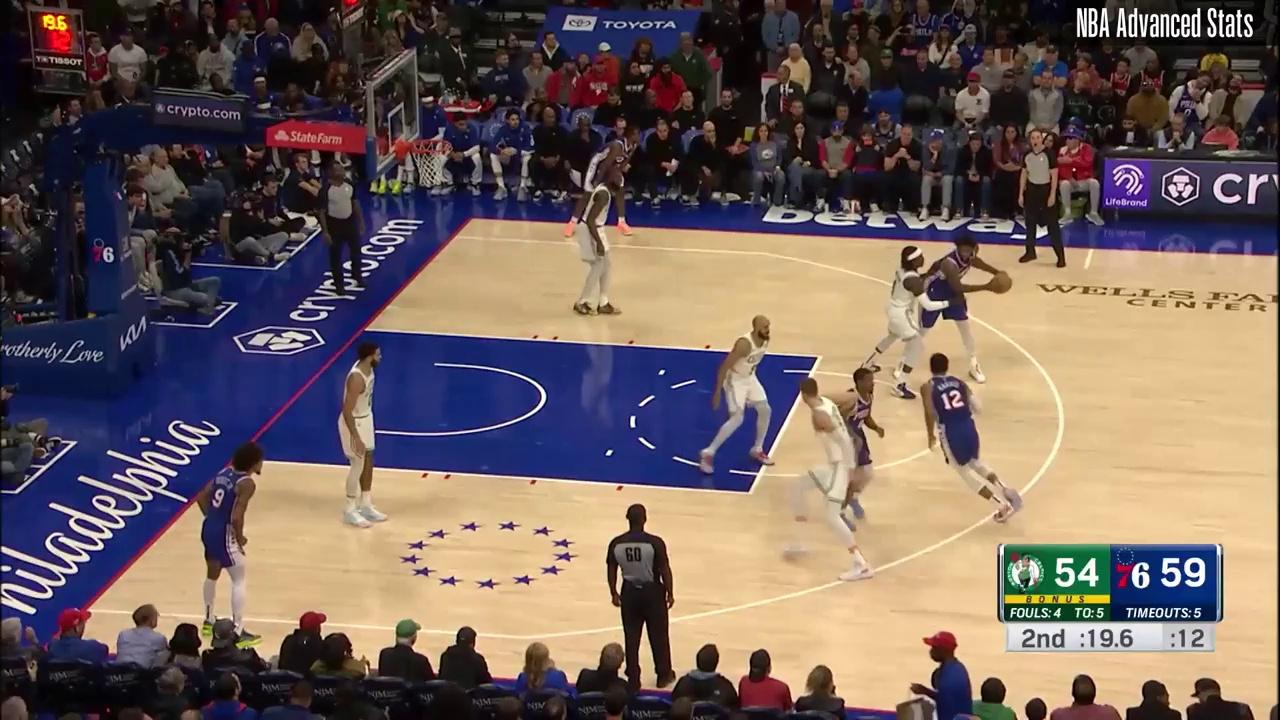3_dx: (448, 232, 459, 243)
3_sx: (78, 603, 93, 616)
b_dx: (466, 213, 477, 223)
free_adx: (814, 352, 826, 364)
free_asx: (745, 488, 756, 499)
free_bdx: (357, 324, 368, 335)
mid_dx: (1081, 264, 1091, 274)
referee: (604, 504, 680, 693), (1015, 130, 1067, 269), (315, 162, 366, 291)
team: (918, 354, 1024, 522), (190, 444, 270, 653), (911, 237, 998, 382), (567, 122, 640, 237), (831, 371, 884, 522)
team1: (793, 375, 869, 581), (859, 243, 947, 397), (699, 312, 778, 472), (337, 340, 398, 530), (571, 173, 626, 317)
timer: (1074, 619, 1145, 653)
